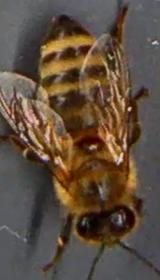varroa_mite: (74, 130, 107, 154)
